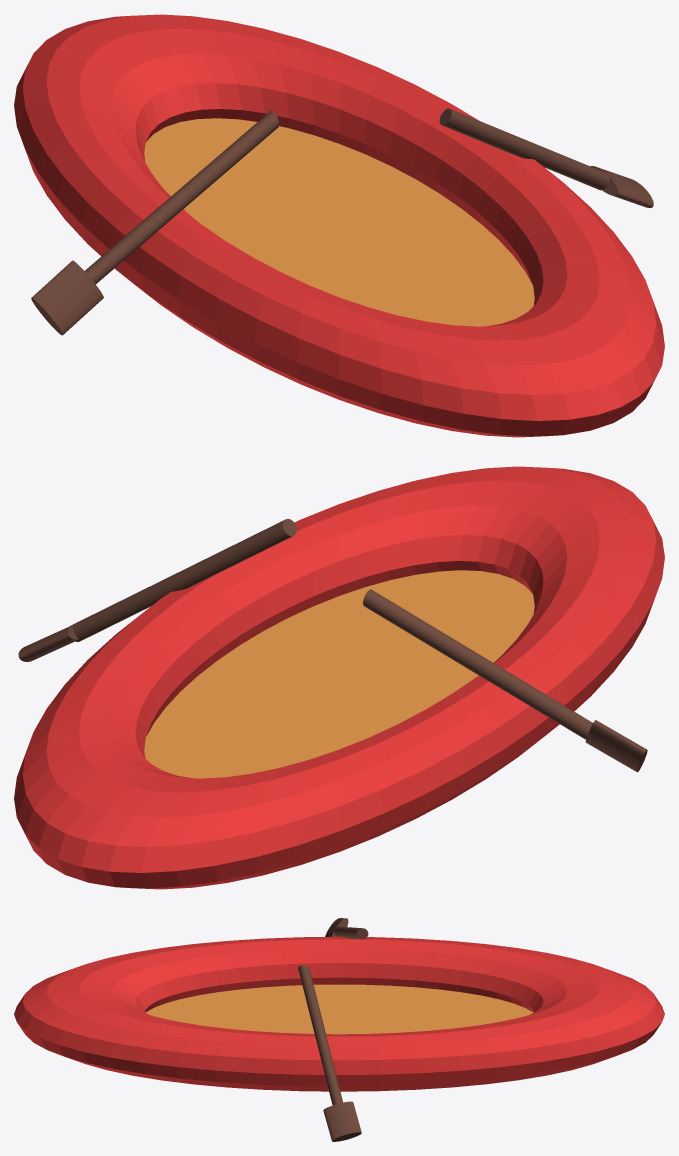
Rendered from boot.fbx.
The picture shows the model from 3 angles, top to bottom: view 1: azimuth 30°, elevation 25°; view 2: azimuth 150°, elevation 25°; view 3: azimuth 270°, elevation 25°; orthographic projection. The views are drawn at different scales.
Visible parts, largest first — view 1: Torus, Cylinder, Roeispaan, Cylinder.001; view 2: Torus, Cylinder, Roeispaan, Cylinder.001; view 3: Torus, Cylinder, Cylinder.001, Roeispaan.
Boxes of the visible parts, x1=… form: Torus: x1=14, y1=14, x2=664, y2=437; Cylinder: x1=144, y1=118, x2=534, y2=326; Roeispaan: x1=31, y1=110, x2=278, y2=335; Cylinder.001: x1=439, y1=108, x2=653, y2=207; Torus: x1=14, y1=466, x2=664, y2=889; Cylinder: x1=144, y1=570, x2=534, y2=778; Roeispaan: x1=363, y1=589, x2=647, y2=772; Cylinder.001: x1=18, y1=519, x2=296, y2=661; Torus: x1=14, y1=936, x2=664, y2=1091; Cylinder: x1=145, y1=984, x2=533, y2=1034; Cylinder.001: x1=298, y1=965, x2=361, y2=1141; Roeispaan: x1=325, y1=918, x2=368, y2=939.
Size of the model in its own units: 389 by 103 by 564.
